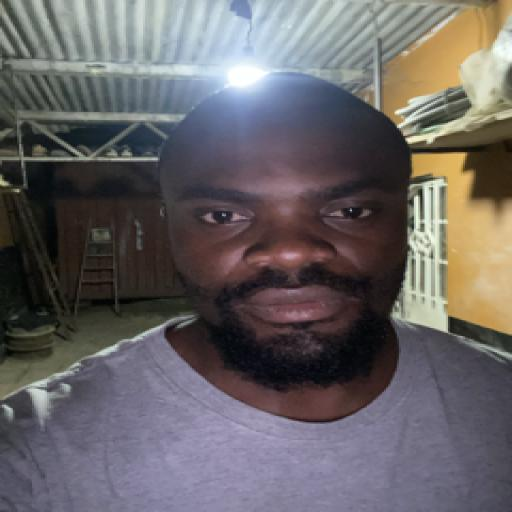JEANLUC: (163, 78, 441, 395)
